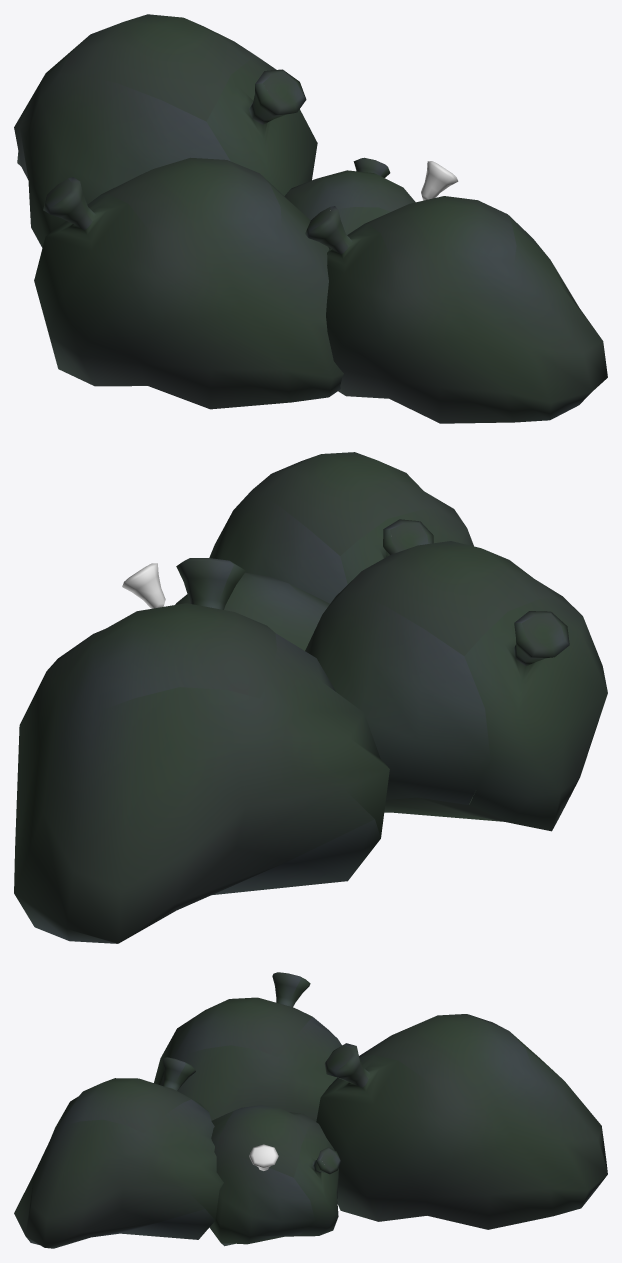
Rendered from pile of trash.fbx.
The picture shows the model from 3 angles, top to bottom: view 1: azimuth 30°, elevation 25°; view 2: azimuth 150°, elevation 25°; view 3: azimuth 270°, elevation 25°; orthographic projection. The views are drawn at different scales.
Parts seen in each view (by area): view 1: Cube.003, Cube.002, Cube.004, Cube, Cube.001; view 2: Cube.004, Cube.003, Cube.002, Cube, Cube.001; view 3: Cube.004, Cube.002, Cube.003, Cube, Cube.001.
Boxes of the visible parts, x1,y1,x2,y2 form: Cube.003: [34, 157, 343, 409]; Cube.002: [305, 196, 607, 423]; Cube.004: [14, 14, 317, 247]; Cube: [284, 157, 415, 234]; Cube.001: [421, 161, 458, 200]; Cube.004: [14, 558, 389, 943]; Cube.003: [305, 541, 607, 831]; Cube.002: [209, 452, 473, 603]; Cube: [175, 572, 329, 650]; Cube.001: [122, 563, 165, 608]; Cube.004: [316, 1014, 607, 1229]; Cube.002: [14, 1057, 223, 1248]; Cube.003: [154, 972, 341, 1121]; Cube: [209, 1105, 340, 1246]; Cube.001: [249, 1144, 278, 1170].
Bounding box in the file's own units: 567 × 317 × 935.
